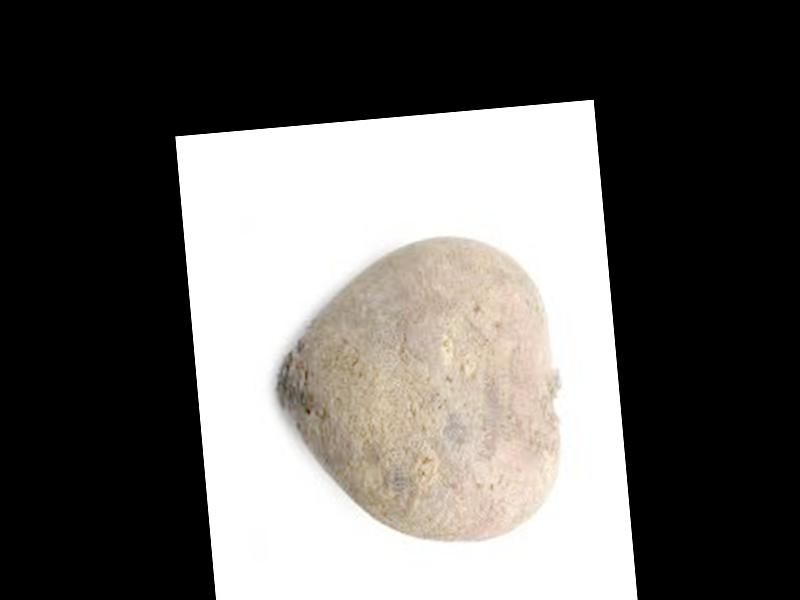Beet: (265, 225, 570, 558)
